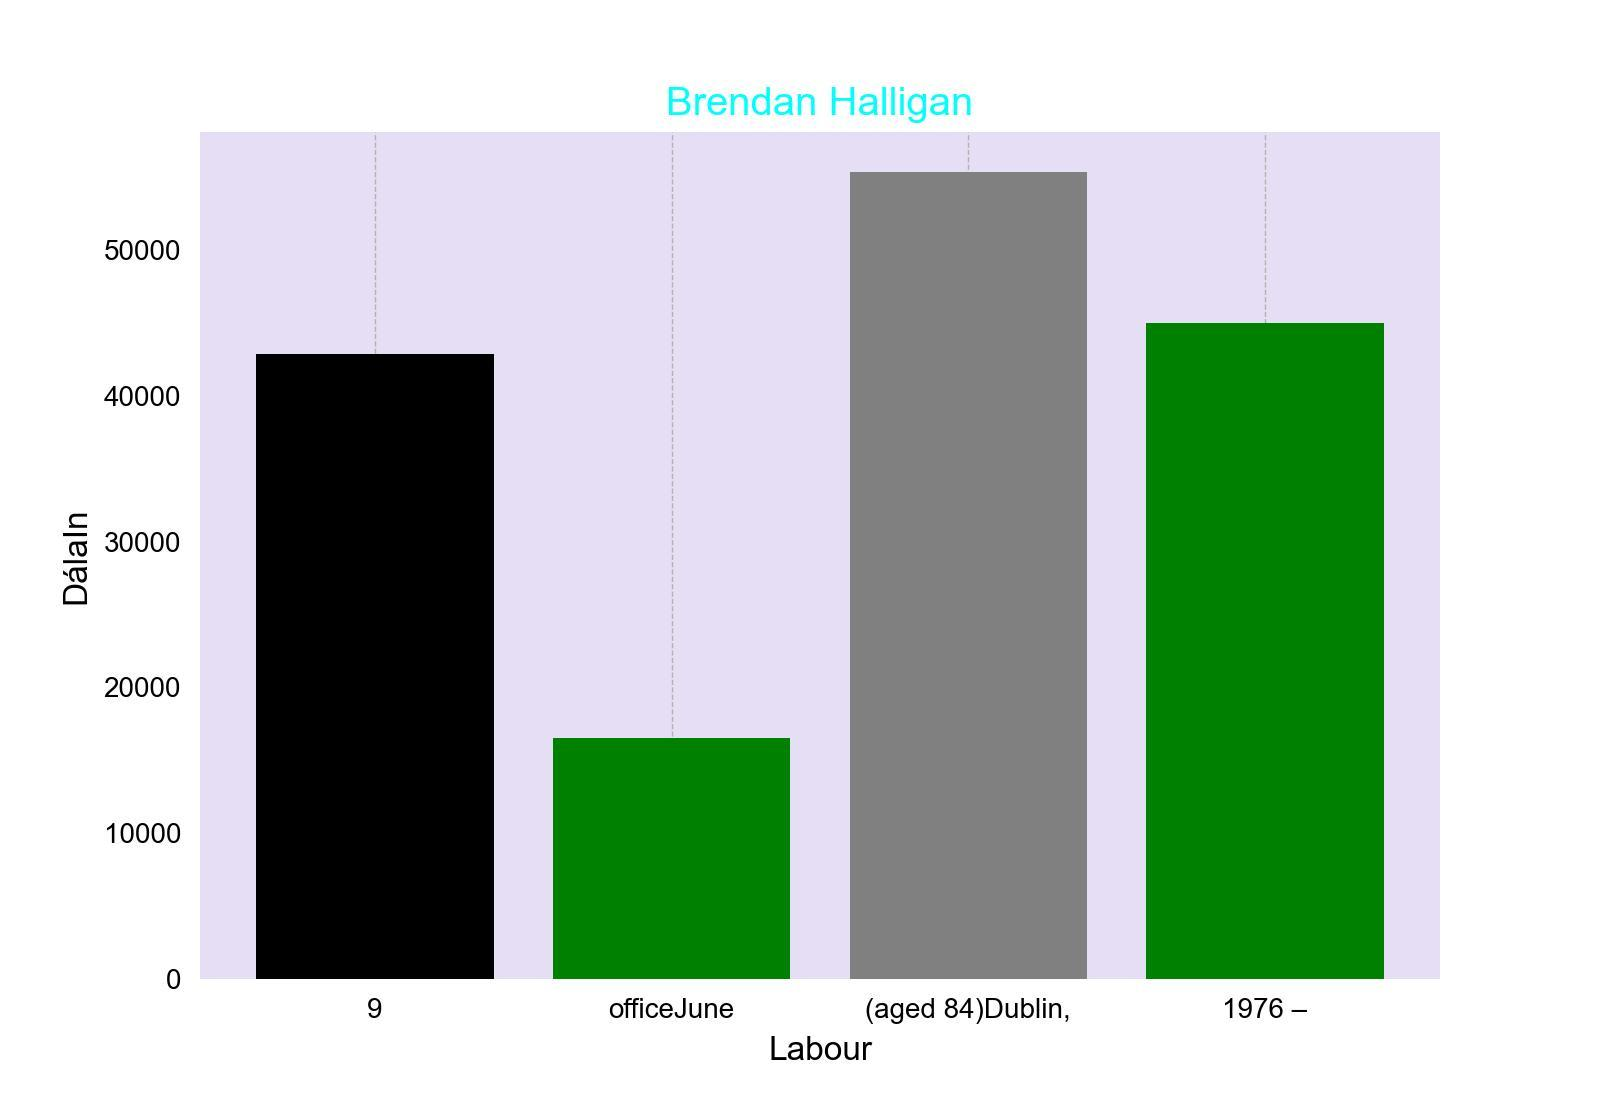axis: (61, 239, 181, 995)
rectangle: (850, 173, 1087, 978), (1147, 323, 1384, 978), (257, 354, 494, 978), (553, 738, 790, 978)
